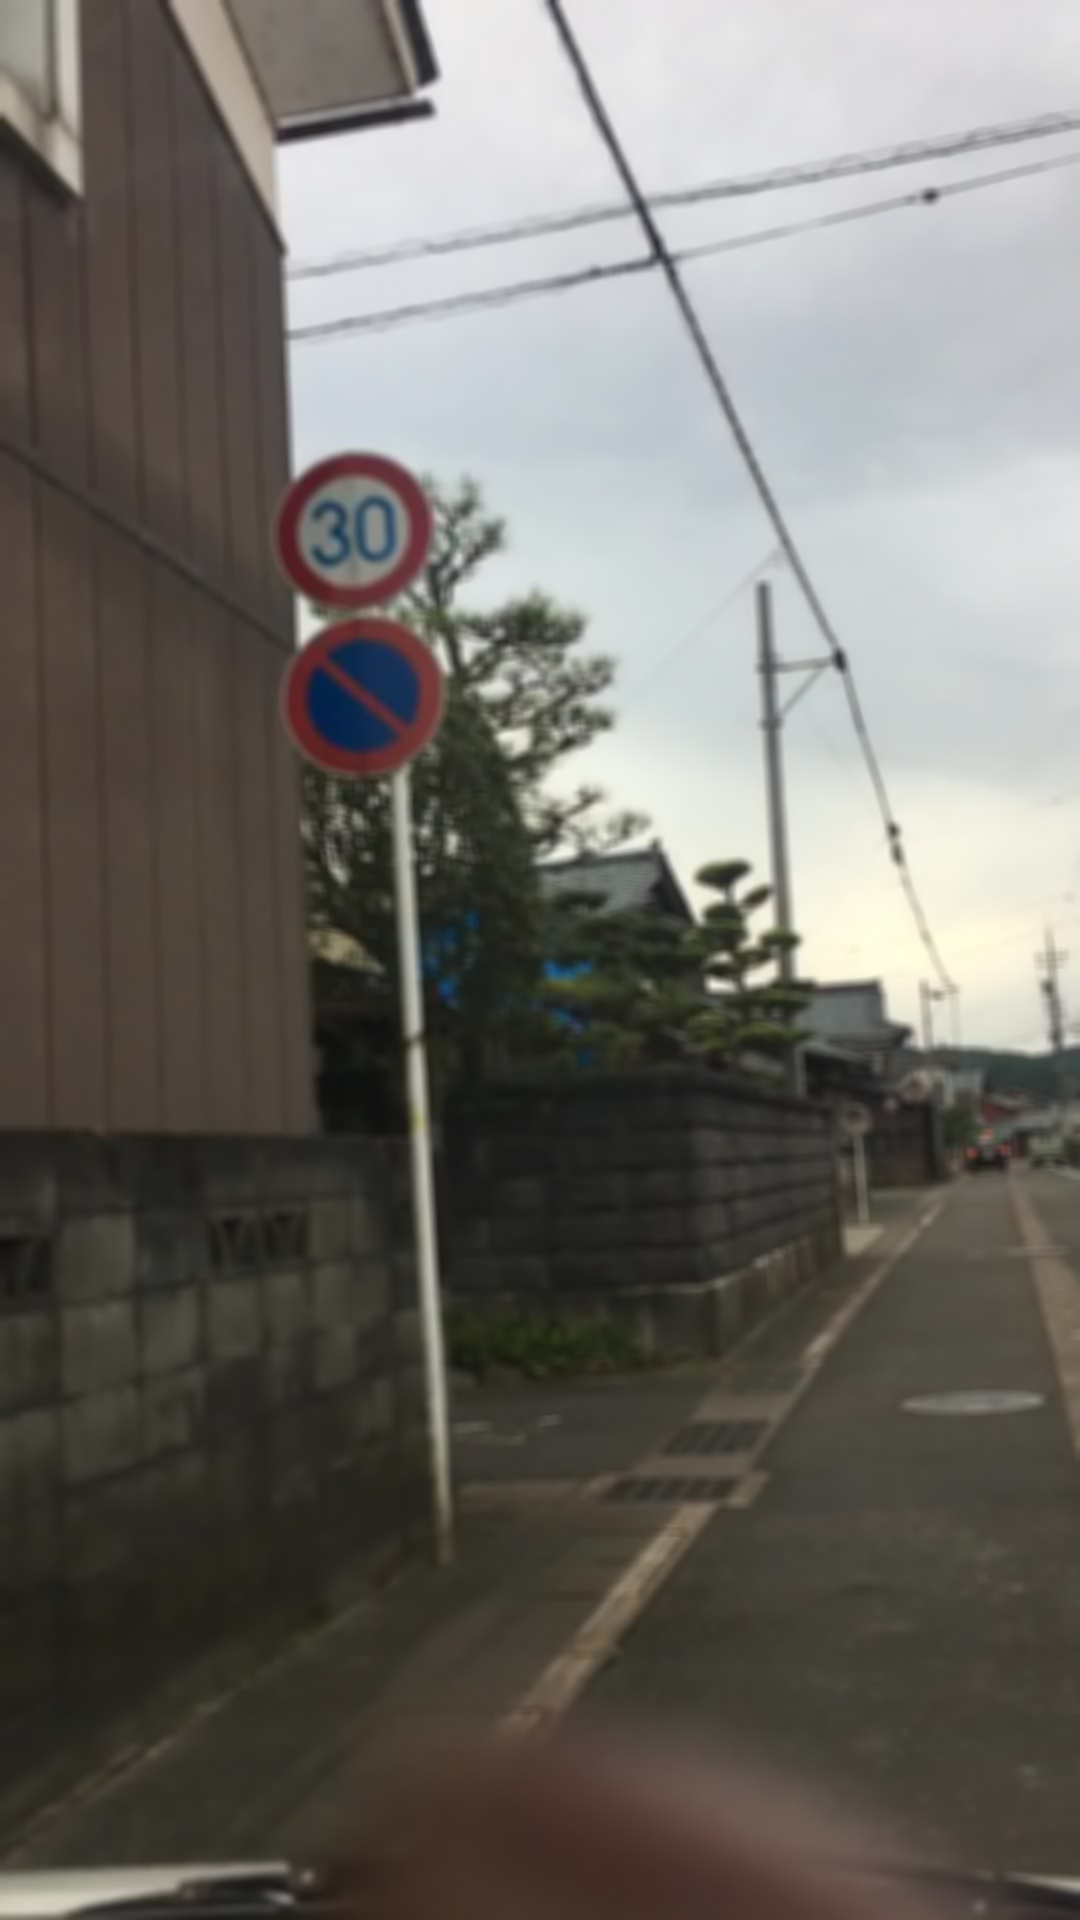Prohibition_sign: (286, 615, 465, 789)
Speed_sign: (248, 434, 448, 620)
